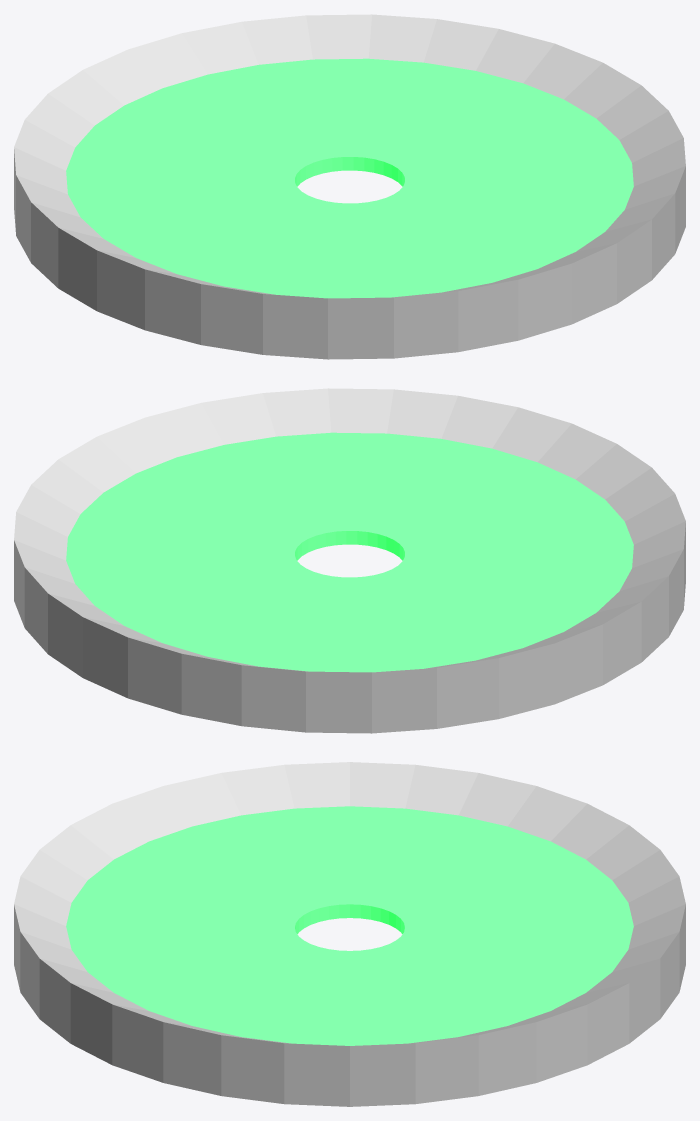
File: goal.glb
3 views of the same model, one above another, from view 1: azimuth 30°, elevation 25°; view 2: azimuth 150°, elevation 25°; view 3: azimuth 270°, elevation 25° (orthographic).
Visible parts, largest first — view 1: Goal; view 2: Goal; view 3: Goal.
Boxes of the visible parts, x1,y1,x2,y2 form: Goal: (14,14,685,359); Goal: (14,388,685,733); Goal: (14,762,685,1106).
Bounding box in the file's own units: 2.37 × 0.2367 × 2.37.
